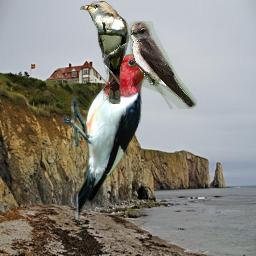Cuckoo: (80, 1, 130, 104)
Swallow: (130, 21, 197, 109)
Woodpecker: (60, 54, 166, 222)
